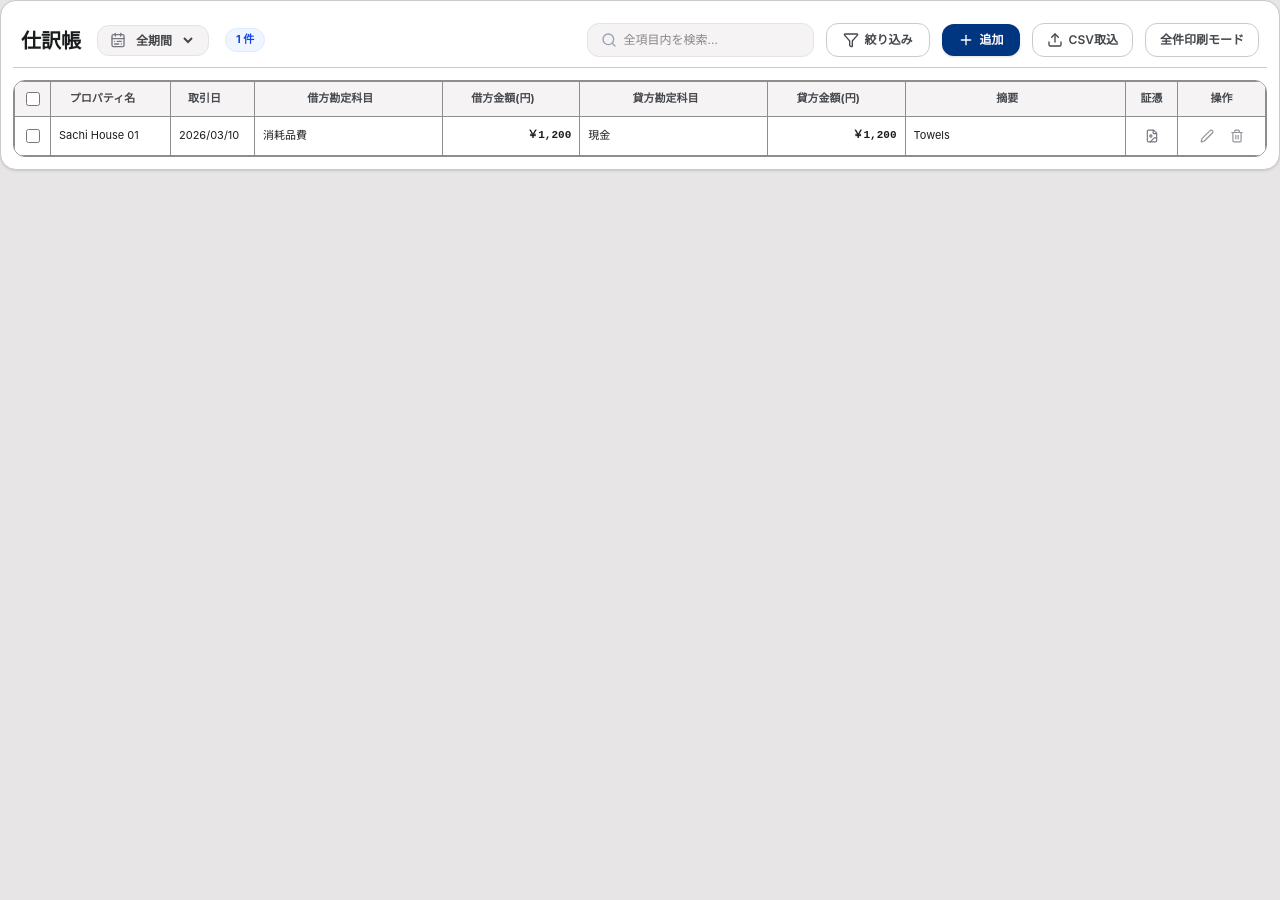
Scenario: Journal edit modal: change property of existing transaction › does not show the property select when allProperties is empty
Step 1. Click the button titled "編集" → (1206, 136), box 1194,123 -> 1220,149
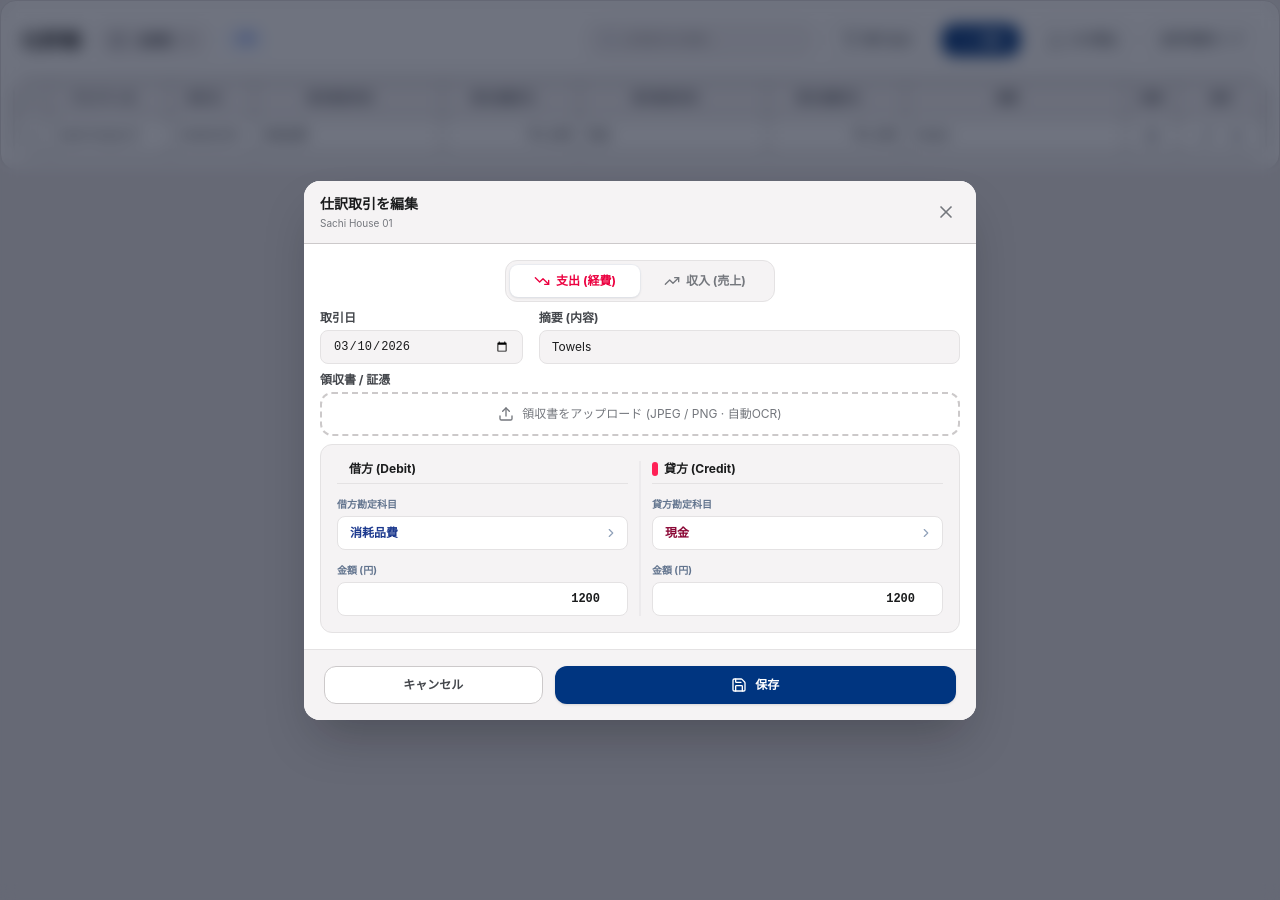
Check: the text "Sachi House 01" is shown, box 320,216 -> 392,228
